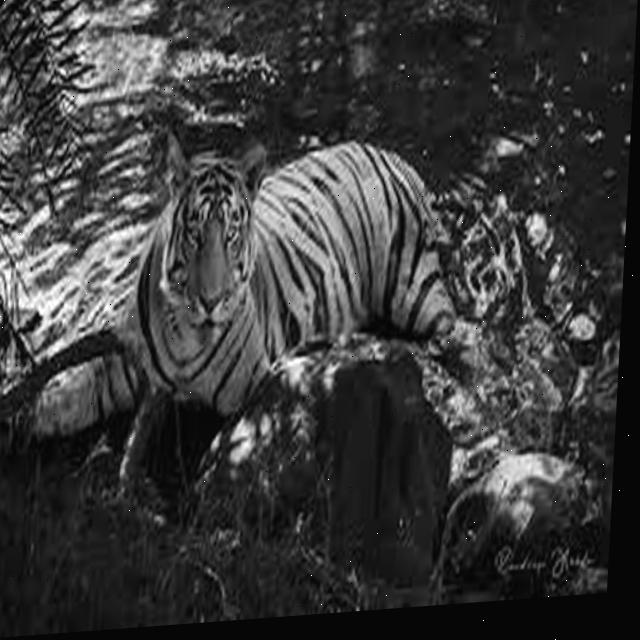Tiger: (53, 56, 538, 513)
